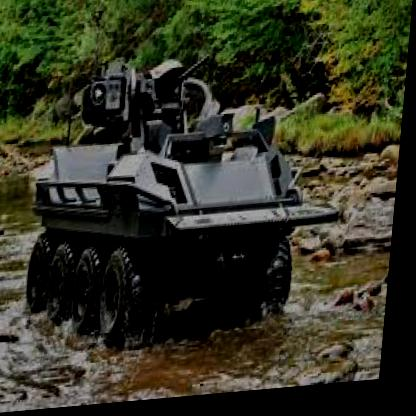UAS: (25, 50, 355, 360)
